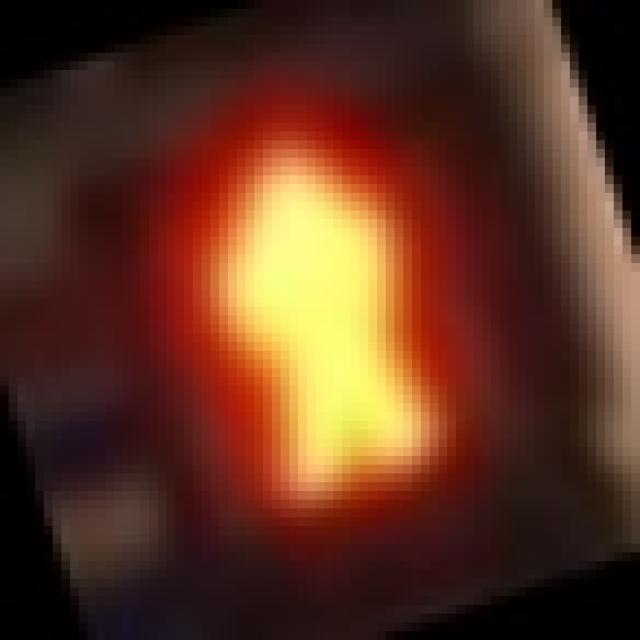red-crossing: (61, 35, 561, 561)
